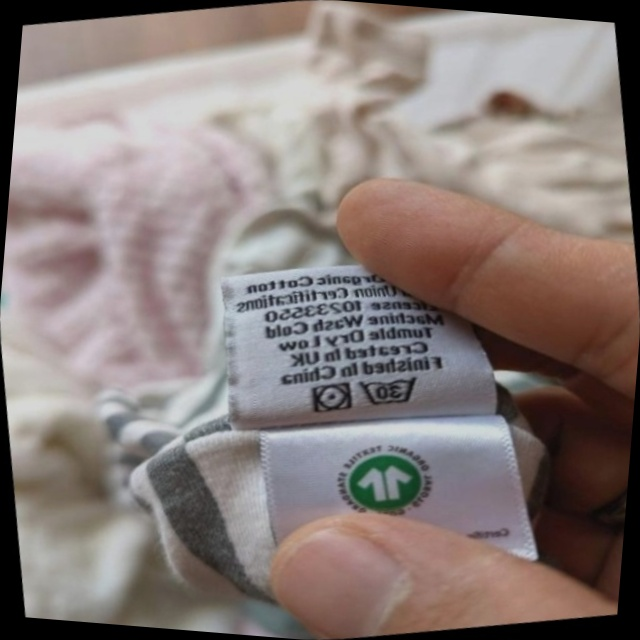30C: (352, 364, 428, 418)
tumble_dry_low: (304, 374, 359, 422)
